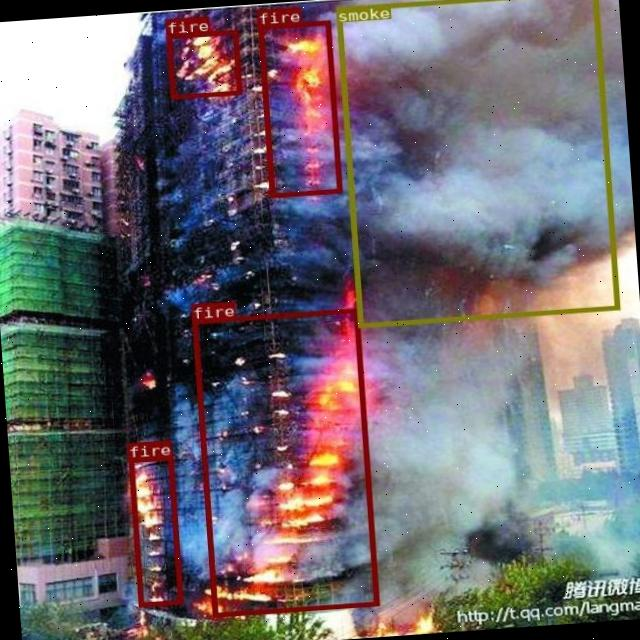fire: (191, 308, 378, 616), (257, 20, 341, 196), (128, 454, 182, 606), (166, 29, 240, 98)
smoke: (335, 0, 619, 327)
